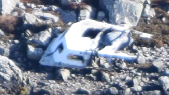boat_cabin: (36, 17, 135, 70)
